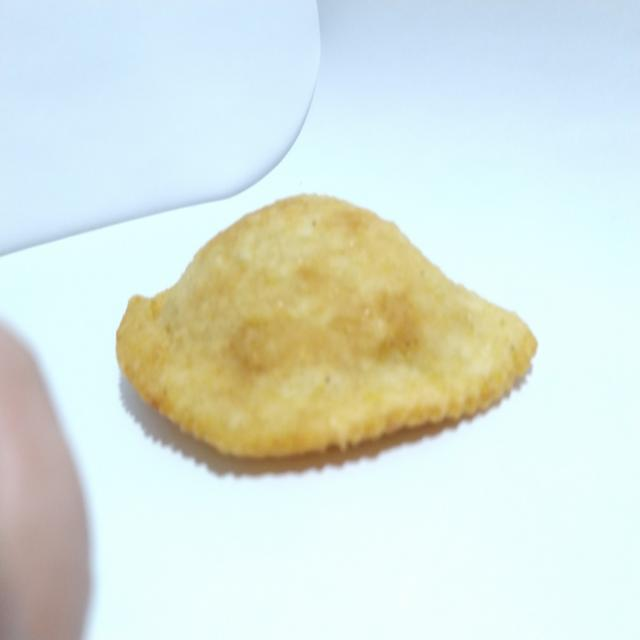Food: (109, 190, 542, 478)
